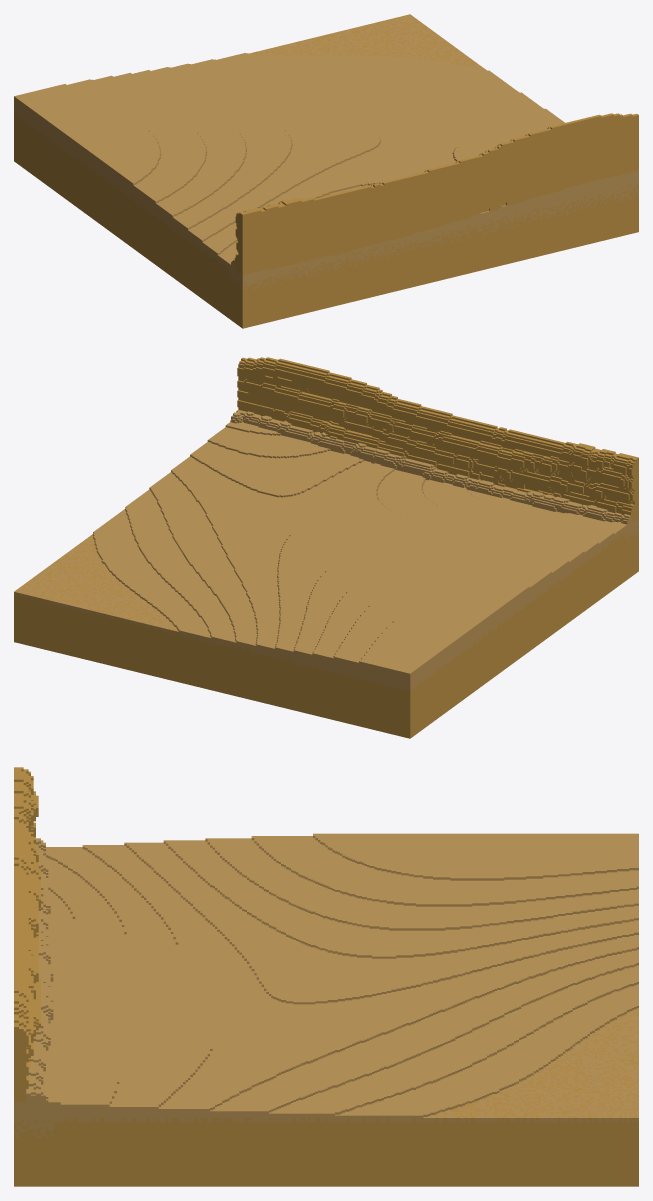
File: Marte-14.obj
3 renders of one model, top to bottom at view 1: azimuth 30°, elevation 25°; view 2: azimuth 150°, elevation 25°; view 3: azimuth 270°, elevation 25°, orthographic. The views are drawn at different scales.
Size of the model in its own units: 25.5 by 7.7 by 25.5.
Materials: 1 (1 with a texture image).
